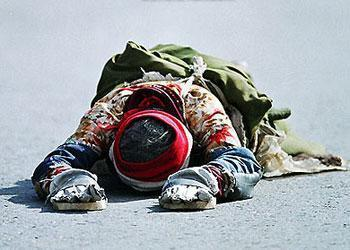Fall-Detected: (10, 14, 297, 213)
